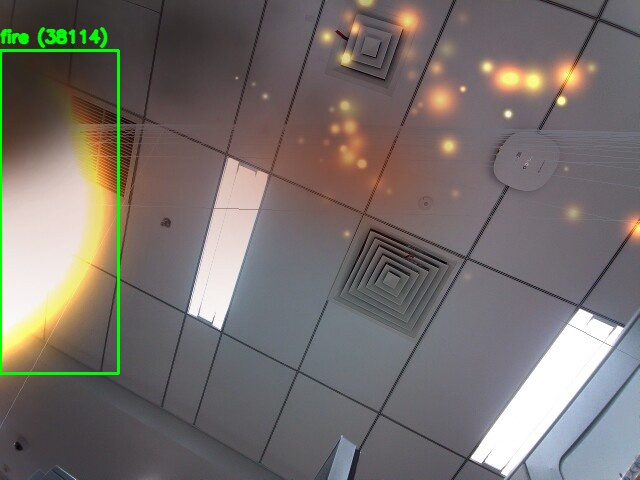fire: (0, 50, 118, 373)
